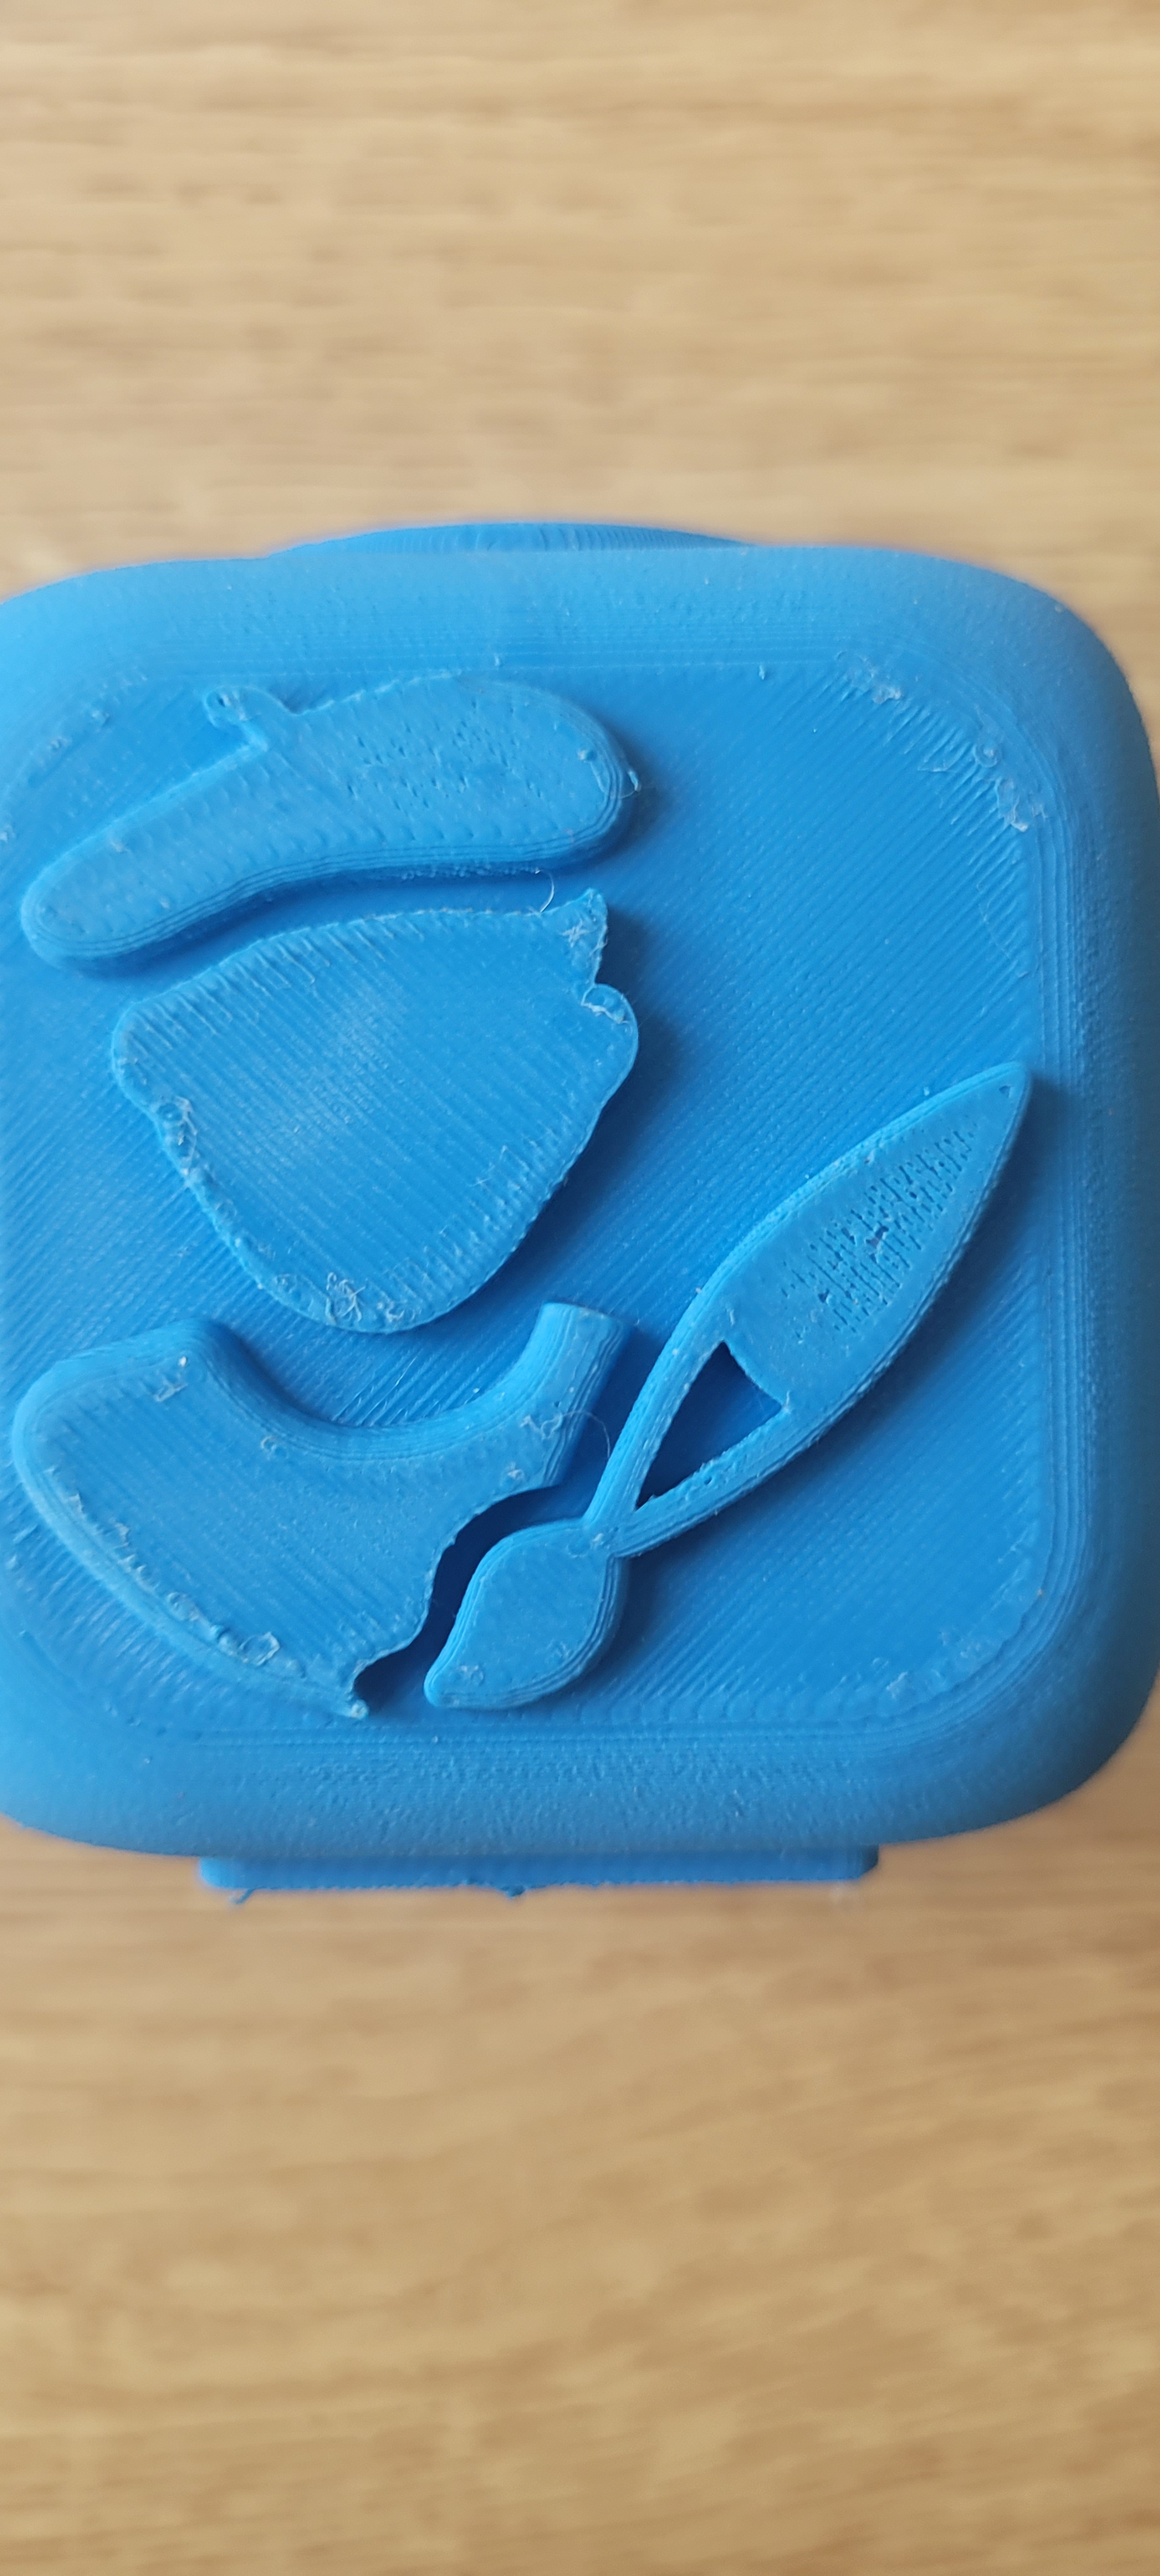Artist_Info: (39, 636, 1037, 1689)
